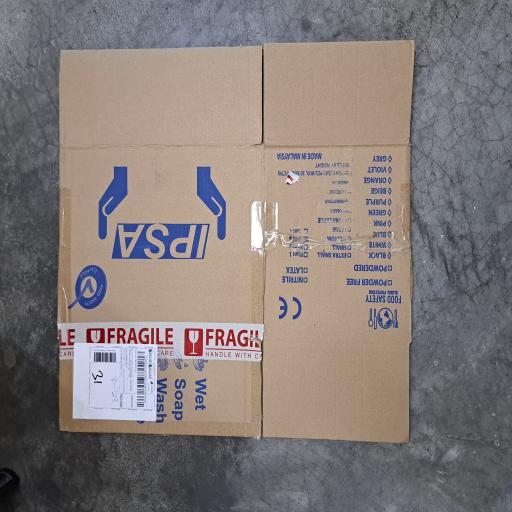cardboard: (48, 76, 353, 512)
